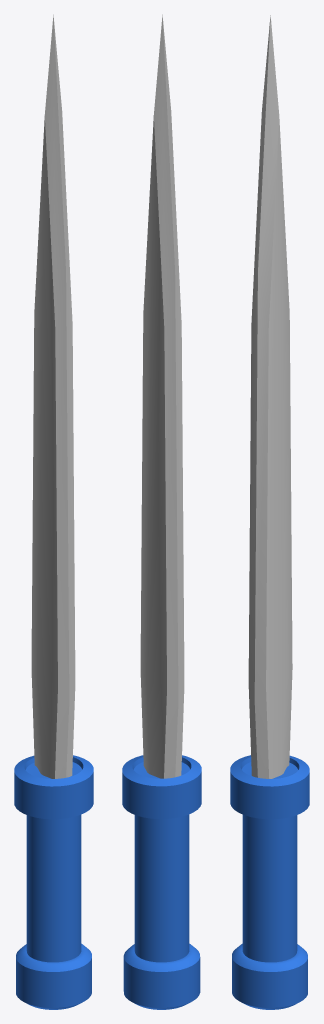
The model's file is gun_1_2.fbx.
The picture shows the model from 3 angles, left to right: view 1: azimuth 30°, elevation 25°; view 2: azimuth 210°, elevation 25°; view 3: azimuth 330°, elevation 25°; orthographic projection.
Visible parts, largest first — view 1: gun_1_2; view 2: gun_1_2; view 3: gun_1_2.
Boxes of the visible parts, box(x1,y1,x2,y2) form: gun_1_2: box(14, 14, 93, 1009); gun_1_2: box(122, 14, 201, 1009); gun_1_2: box(230, 15, 309, 1009).
Bounding box in the file's own units: 269 × 3641 × 263.
